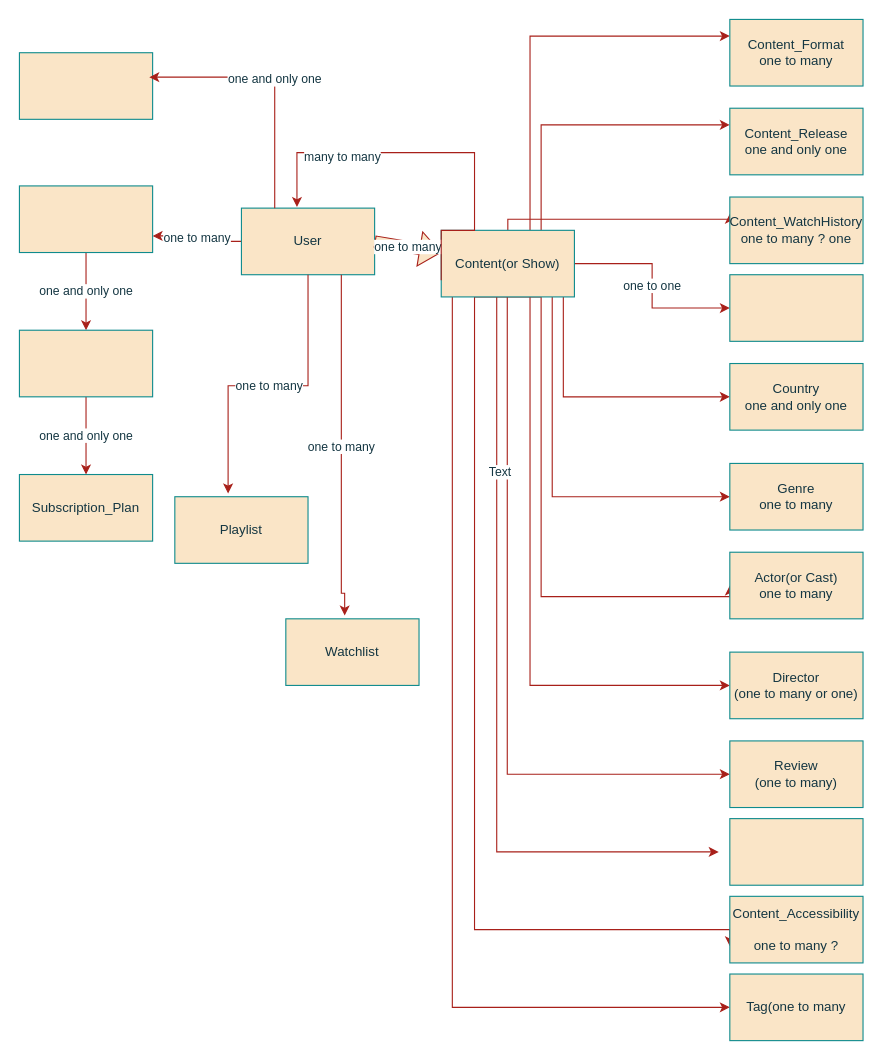
Some shapes in this 882 by 1060 pixel diagram are drawn without their labels. The box of each missing label's shape, as (x1, y1, x2, y2) in pixels:
Content_Availability (one to only one): (729, 818, 863, 885)
Payment_Method: (18, 185, 153, 253)
Rating one and only one or many: (729, 274, 863, 341)
Transaction: (18, 329, 153, 397)
User_Subscription: (18, 52, 153, 119)
